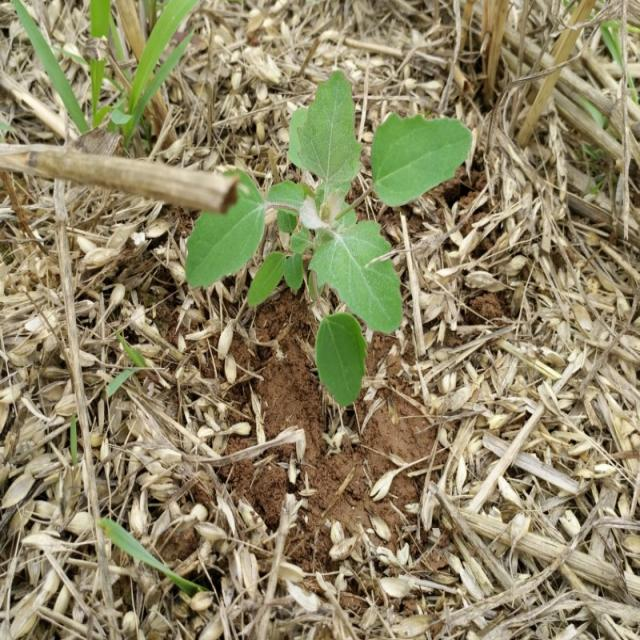ca: (184, 67, 472, 409)
